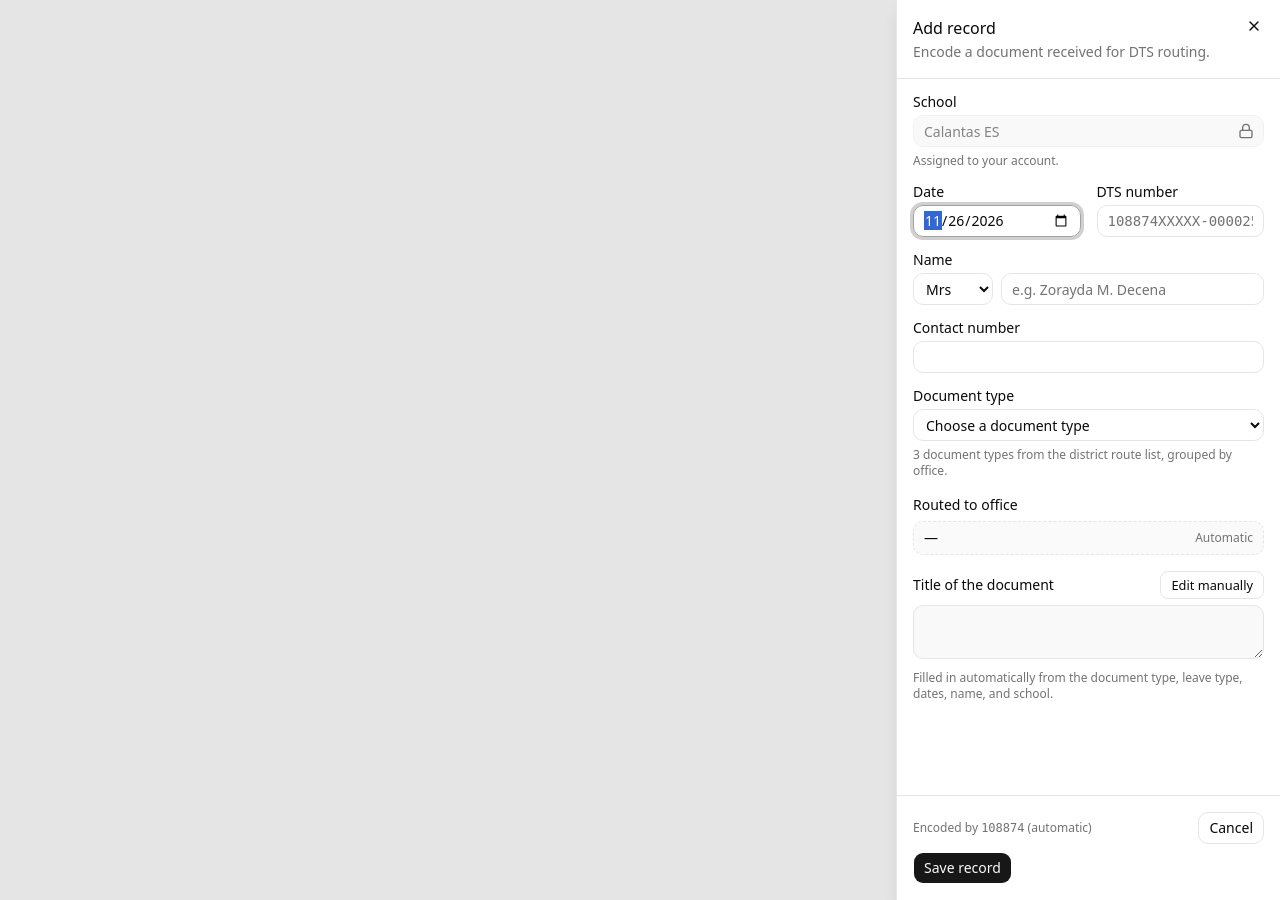
Test: RecordForm › shows the office of the chosen type and the leave dates only when the type needs them
The image size is (1280, 900).
Select "PAYMENTS" in the dropdown labelled "Document type" at (1088, 425), box x1=913 y1=409 x2=1264 y2=441
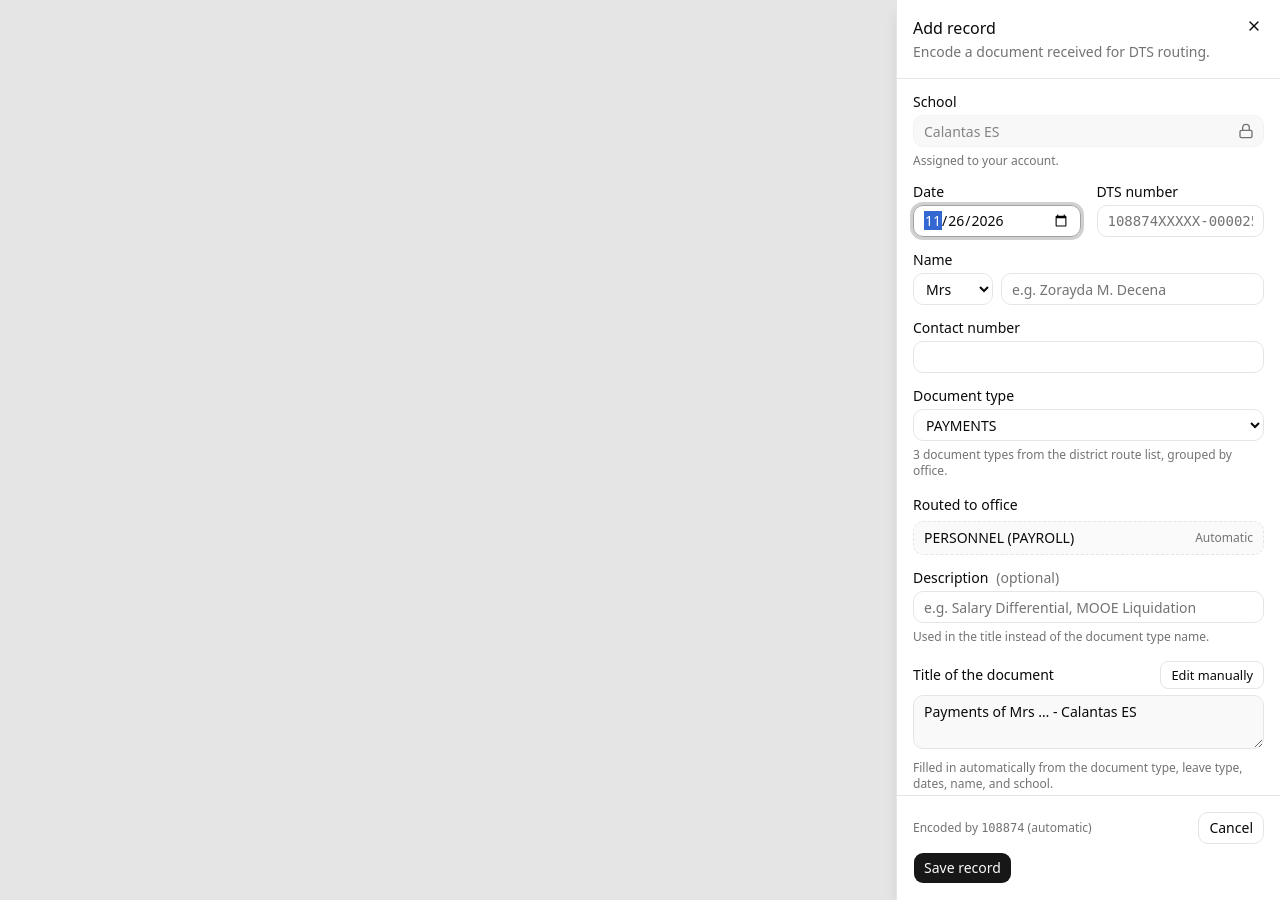
expect the field labelled "Date from" is not shown: met
expect the text "PERSONNEL (PAYROLL)" is shown: met, box x1=924 y1=528 x2=1074 y2=548
Select "FORM 6 / LEAVE OF ABSENCE" in the dropdown labelled "Document type" at (1088, 425), box x1=913 y1=409 x2=1264 y2=441
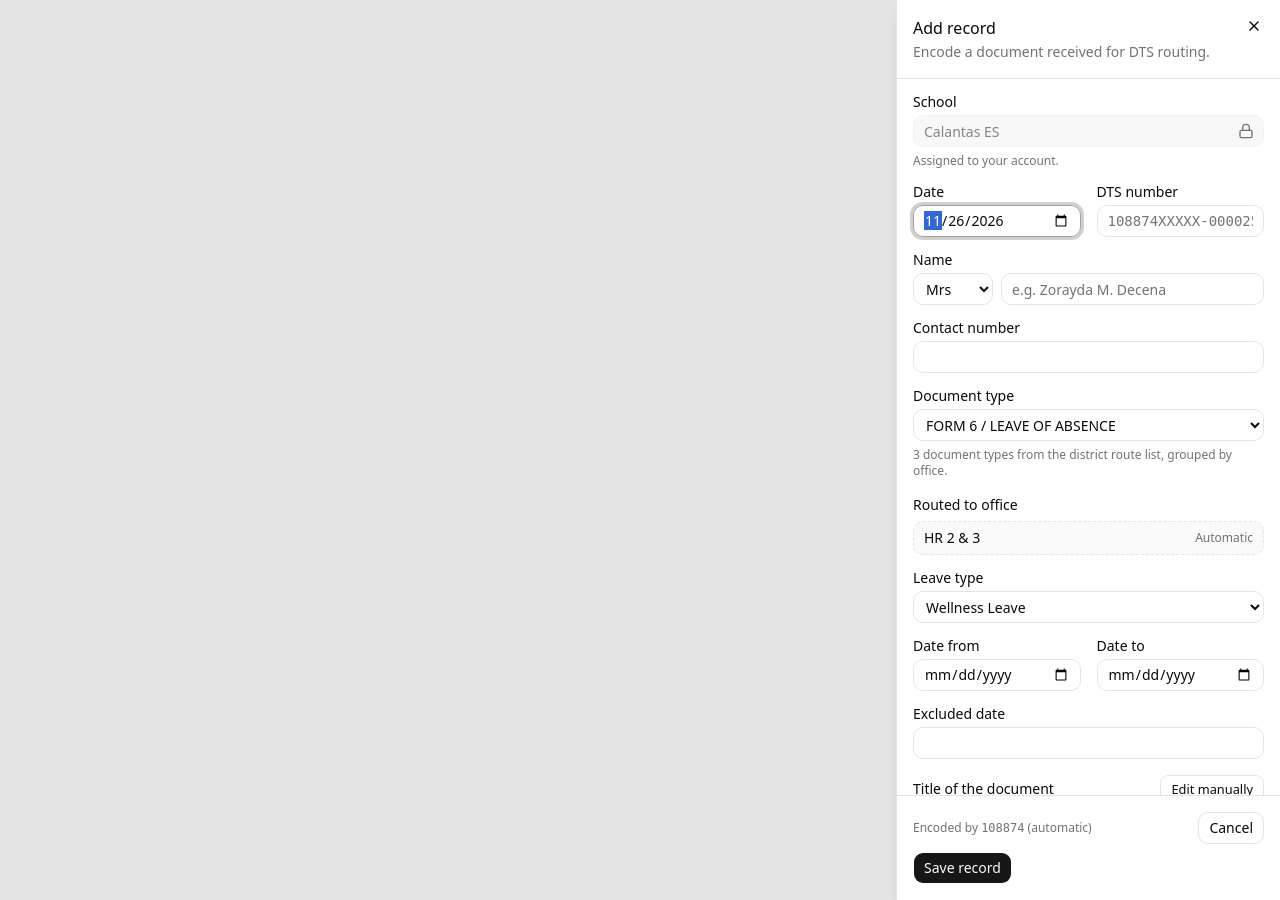
expect the text "HR 2 & 3" is shown: met, box x1=924 y1=528 x2=980 y2=548
expect the date field labelled "Date from" is shown: met, box x1=913 y1=659 x2=1080 y2=691
expect the date field labelled "Date to" is shown: met, box x1=1096 y1=659 x2=1264 y2=691
